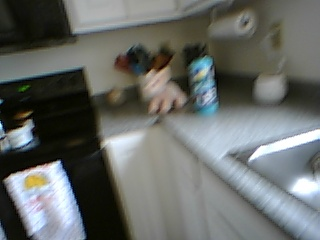piggy: (142, 65, 187, 116)
